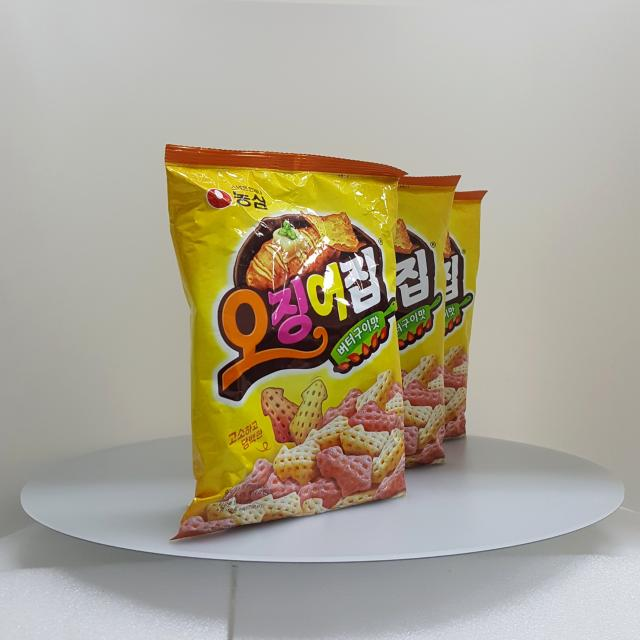-83G: (165, 145, 408, 542)
